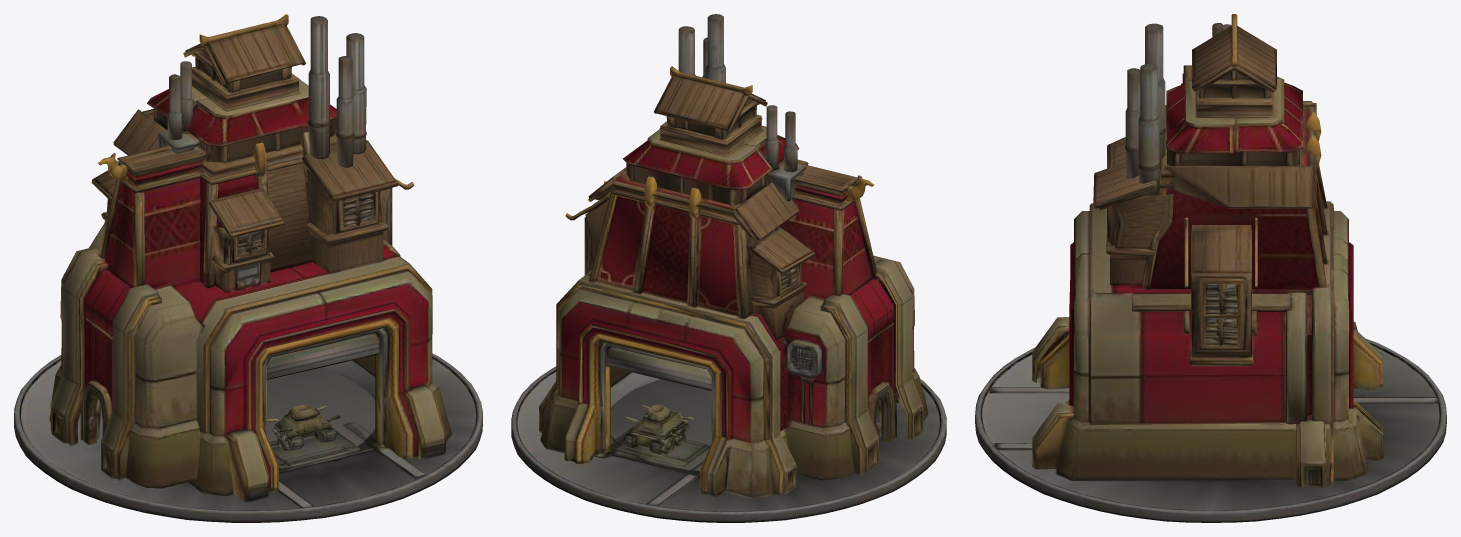
The model's file is gtfc_war_factory.glb.
3 views of the same model, side by side, from view 1: azimuth 30°, elevation 25°; view 2: azimuth 150°, elevation 25°; view 3: azimuth 270°, elevation 25° (orthographic). The views are drawn at different scales.
Parts seen in each view (by area): view 1: Body, Trim; view 2: Body, Trim; view 3: Body, Trim.
Part boxes in pixels (x1,y1,x2,y2): Body: (14, 14, 482, 522); Trim: (79, 16, 431, 491); Body: (511, 14, 946, 522); Trim: (539, 66, 874, 493); Body: (975, 14, 1446, 522); Trim: (1040, 14, 1383, 484).
Size of the model in its own units: 8.64 by 8.44 by 8.64.
2 materials, 2 textured.
